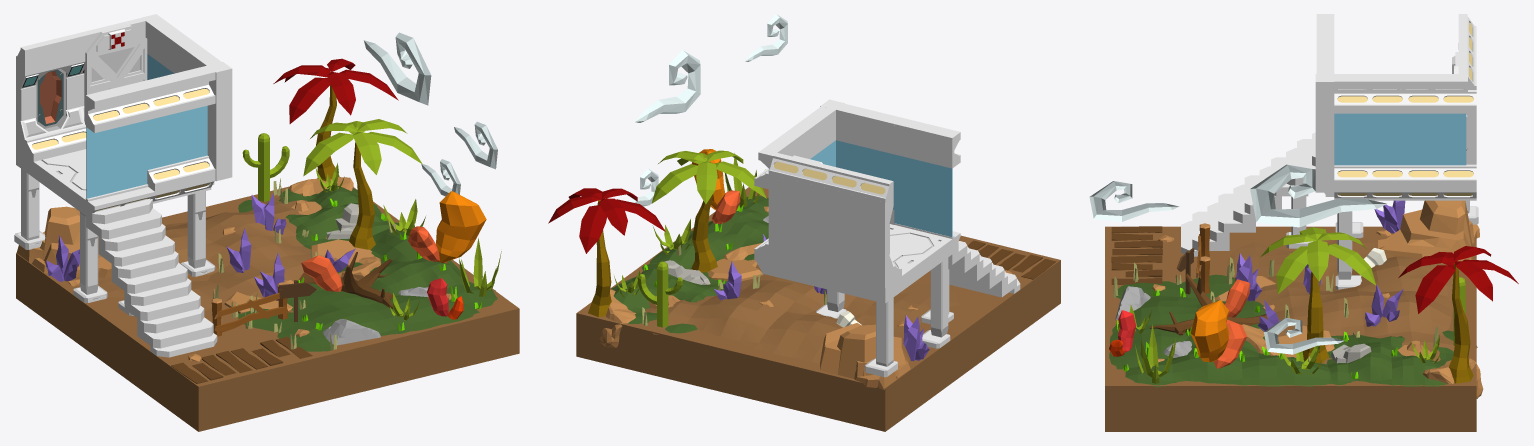
The model's file is Free.fbx.
The picture shows the model from 3 angles, left to right: view 1: azimuth 30°, elevation 25°; view 2: azimuth 150°, elevation 25°; view 3: azimuth 270°, elevation 25°; orthographic projection. The views are drawn at different scales.
Visible parts, largest first — view 1: Cube, Terrain_Plane_Dirt_Uneven_01, Cube (1), Terrain_Plane_Dirt_Uneven_01 (1), SciFi_Modular_Tile_Wall_Escape_Pod_White_01, Terrain_Plane_Dirt_Uneven_01 (2), SciFi_Modular_Tile_Door_Small_White_01, Vegetation_Modular_Tree_Foliage_Tropical_Palm_02 (5), Vegetation_Modular_Tree_Foliage_Tropical_Palm_02, Terrain_Plane_Dirt_Uneven_01 (3), Cube (2), Vegetation_Modular_Tree_Foliage_Clump_Large_04 (+44 smaller); view 2: Cube, Terrain_Plane_Dirt_Uneven_01, Cube (1), SciFi_Modular_Tile_Wall_Escape_Pod_White_01, SciFi_Modular_Tile_Wall_Escape_Pod_White_01 (1), Terrain_Plane_Dirt_Uneven_01 (2), Vegetation_Modular_Tree_Foliage_Tropical_Palm_02 (5), Rock_Large_15, Vegetation_Modular_Tree_Foliage_Tropical_Palm_02, Terrain_Plane_Dirt_Uneven_01 (3), SciFi_Modular_Tile_White_01 (1), Cloud_Wisp_Half_02 (1) (+28 smaller); view 3: Cube, Terrain_Plane_Dirt_Uneven_01, Cube 1, Terrain_Plane_Dirt_Uneven_01 (2), Terrain_Plane_Dirt_Uneven_01 (1), Terrain_Plane_Dirt_Uneven_01 (3), Rock_Large_15, Cloud_Wisp_Half_02 (1), Vegetation_Modular_Tree_Foliage_Tropical_Palm_02, Vegetation_Modular_Tree_Foliage_Tropical_Palm_02 (5), Prop_Plank_Bridge_01, Cube (2) (+37 smaller).
Boxes of the visible parts, x1,y1,x2,y2 form: Cube: (16, 186, 519, 431); Terrain_Plane_Dirt_Uneven_01: (98, 197, 326, 322); Cube (1): (86, 105, 207, 198); Terrain_Plane_Dirt_Uneven_01 (1): (238, 270, 479, 351); SciFi_Modular_Tile_Wall_Escape_Pod_White_01: (16, 51, 85, 155); Terrain_Plane_Dirt_Uneven_01 (2): (303, 229, 497, 308); SciFi_Modular_Tile_Door_Small_White_01: (84, 25, 147, 124); Vegetation_Modular_Tree_Foliage_Tropical_Palm_02 (5): (273, 58, 398, 123); Vegetation_Modular_Tree_Foliage_Tropical_Palm_02: (303, 119, 422, 176); Terrain_Plane_Dirt_Uneven_01 (3): (238, 185, 399, 245); Cube (2): (207, 62, 232, 181); Vegetation_Modular_Tree_Foliage_Clump_Large_04: (436, 191, 486, 262); Cube: (576, 187, 1060, 431); Terrain_Plane_Dirt_Uneven_01: (642, 264, 960, 363); Cube (1): (836, 140, 952, 236); SciFi_Modular_Tile_Wall_Escape_Pod_White_01: (827, 188, 893, 288); SciFi_Modular_Tile_Wall_Escape_Pod_White_01 (1): (768, 174, 826, 273); Terrain_Plane_Dirt_Uneven_01 (2): (649, 196, 768, 283); Vegetation_Modular_Tree_Foliage_Tropical_Palm_02 (5): (548, 188, 665, 253); Rock_Large_15: (820, 323, 908, 378); Vegetation_Modular_Tree_Foliage_Tropical_Palm_02: (651, 150, 766, 204); Terrain_Plane_Dirt_Uneven_01 (3): (611, 264, 725, 333); SciFi_Modular_Tile_White_01 (1): (889, 225, 952, 278); Cloud_Wisp_Half_02 (1): (635, 50, 700, 122); Cube: (1105, 226, 1476, 431); Terrain_Plane_Dirt_Uneven_01: (1225, 237, 1477, 364); Cube 1: (1334, 113, 1466, 165); Terrain_Plane_Dirt_Uneven_01 (2): (1125, 335, 1343, 387); Terrain_Plane_Dirt_Uneven_01 (1): (1109, 274, 1265, 369); Terrain_Plane_Dirt_Uneven_01 (3): (1326, 330, 1469, 386); Rock_Large_15: (1378, 200, 1472, 263); Cloud_Wisp_Half_02 (1): (1250, 164, 1387, 227); Vegetation_Modular_Tree_Foliage_Tropical_Palm_02: (1260, 227, 1376, 294); Vegetation_Modular_Tree_Foliage_Tropical_Palm_02 (5): (1398, 246, 1518, 313); Prop_Plank_Bridge_01: (1111, 226, 1162, 284); Cube (2): (1315, 74, 1334, 192).
Bounding box in the file's own units: 11.93 × 8.18 × 12.11.
